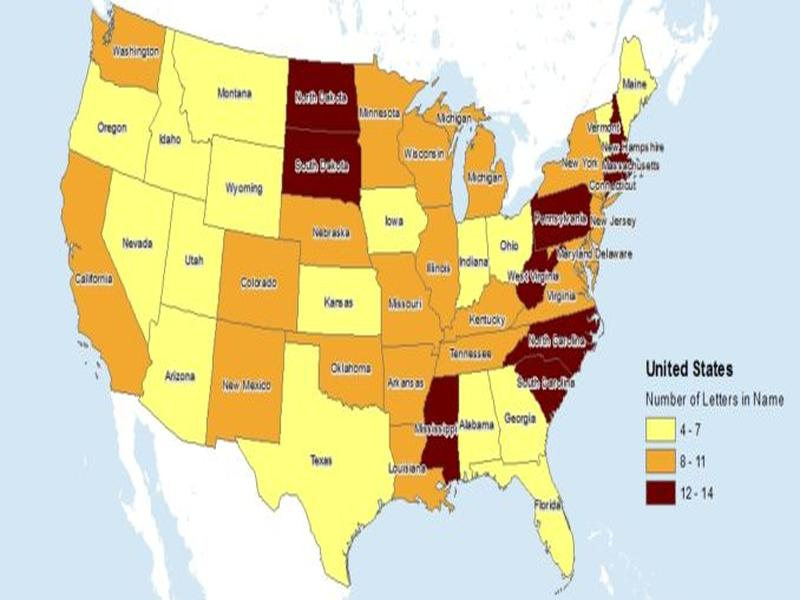legend: (643, 357, 785, 510)
